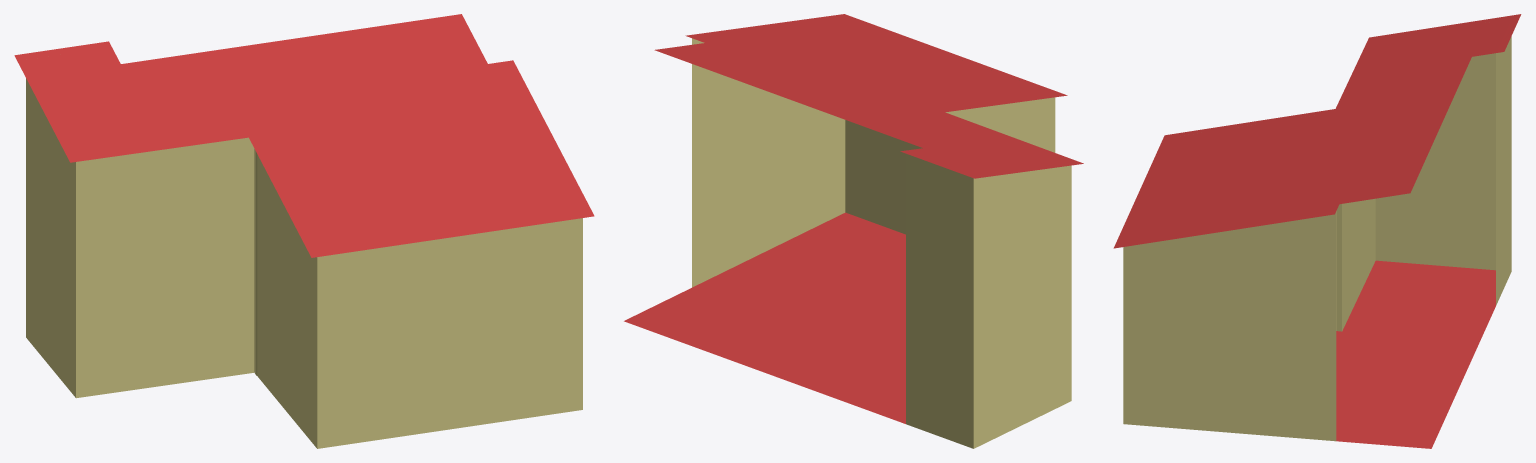
The picture shows the model from 3 angles, left to right: view 1: azimuth 30°, elevation 25°; view 2: azimuth 150°, elevation 25°; view 3: azimuth 270°, elevation 25°; orthographic projection. The views are drawn at different scales.
Bounding box in the file's own units: 13.47 × 12.06 × 8.3.
